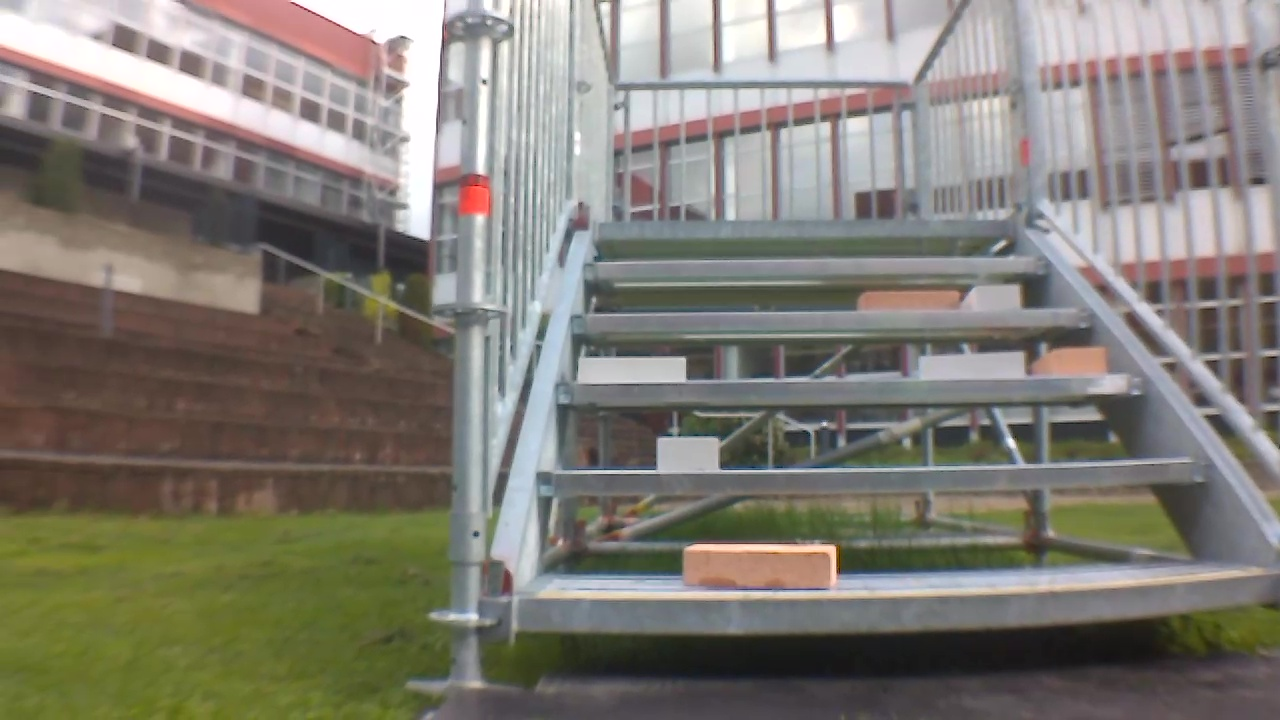brick: (685, 545, 837, 589), (580, 356, 685, 383), (922, 352, 1023, 378), (656, 438, 719, 472), (857, 291, 961, 310), (1037, 349, 1104, 374), (964, 284, 1020, 311)
edge: (516, 575, 1280, 632), (537, 458, 1217, 494), (555, 374, 1143, 402), (572, 306, 1096, 330), (585, 257, 1050, 278), (597, 217, 1016, 237)
stairs: (433, 5, 1280, 688)
steps: (507, 207, 1280, 644)
